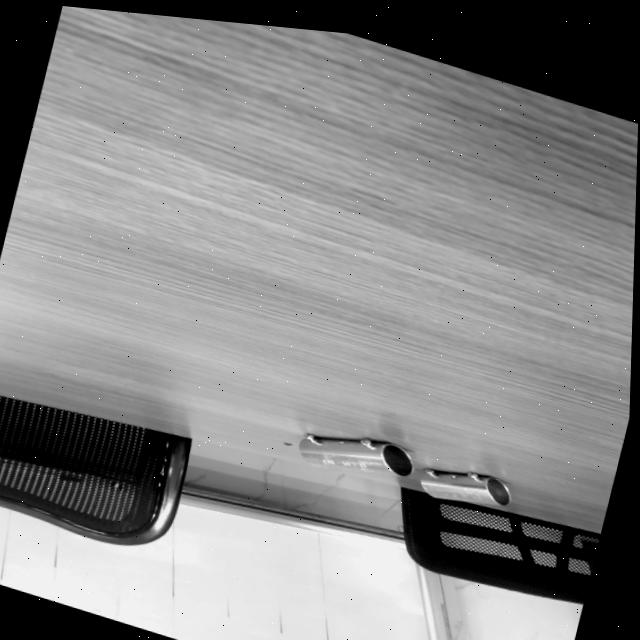Co_Lon: (296, 432, 413, 475)
Co_Nho: (418, 465, 512, 506)
